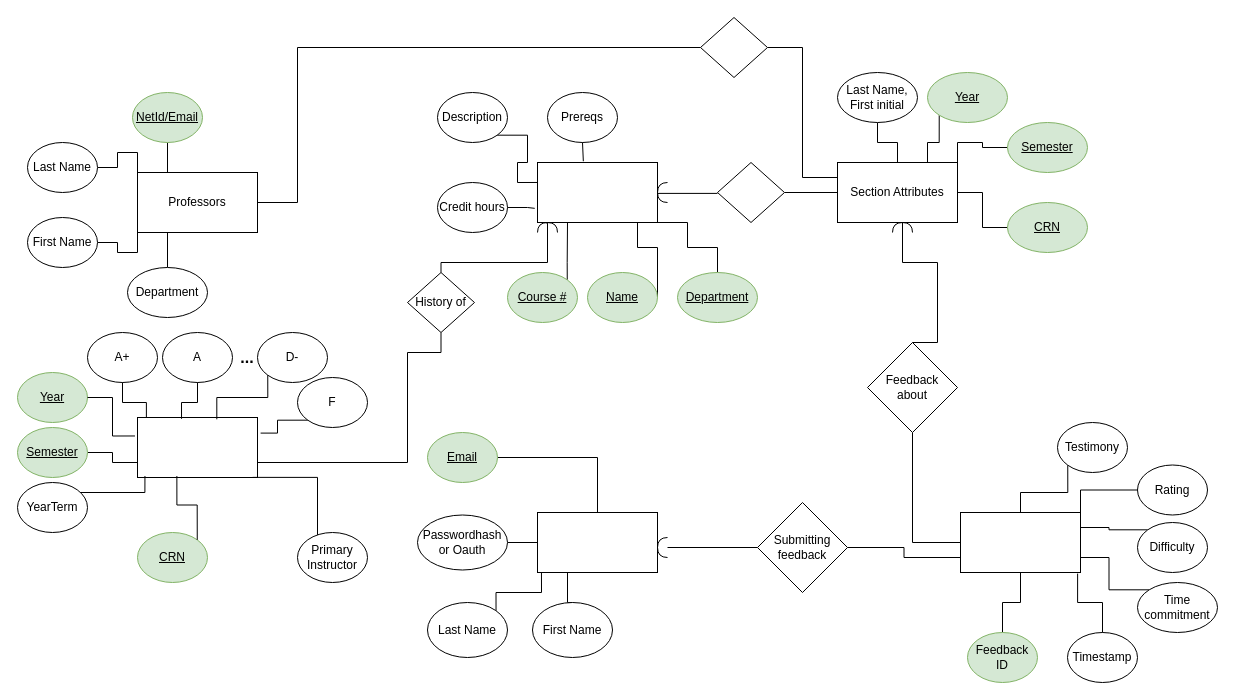
The diagram is 1235 pixels wide and 700 high, and some of its shapes have lost their labels. Here are the shapes that lost their labels. From the top down, the centre of each, then its label:
the point at 734,47: Teaches
the point at 597,192: General Course
the point at 750,192: Links
the point at 197,447: GPA History
the point at 597,542: Users
the point at 1020,542: User Feedback
